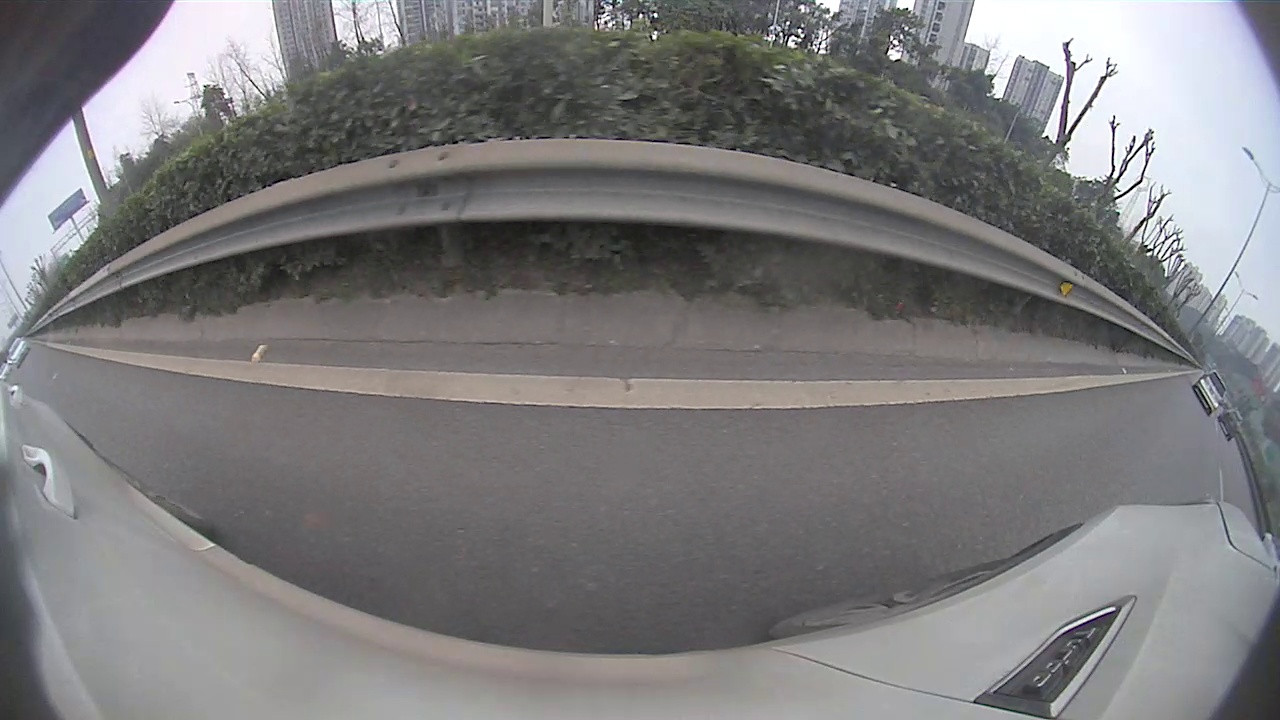car: (1191, 372, 1226, 416), (5, 338, 29, 364)
